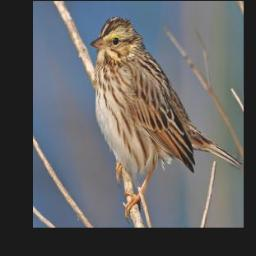Sparrow: (90, 16, 244, 226)
